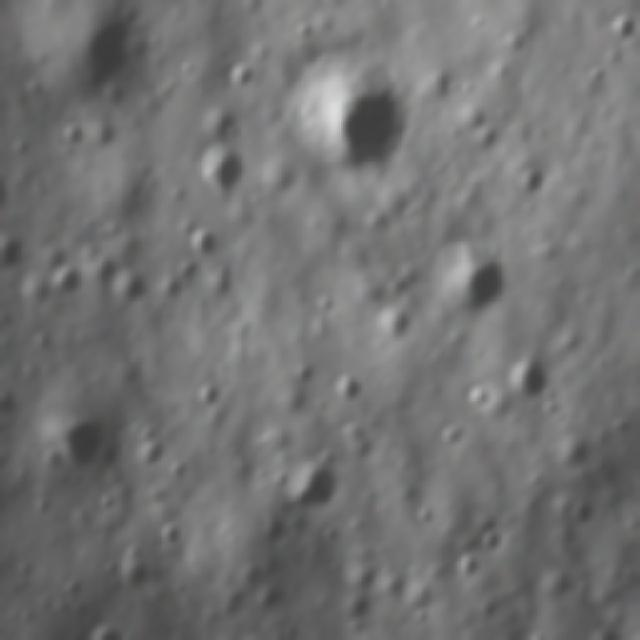crater: (282, 48, 420, 172), (55, 8, 158, 98), (438, 243, 511, 320), (50, 408, 105, 474), (286, 459, 349, 513), (191, 145, 249, 203), (501, 353, 553, 402), (374, 306, 420, 349), (336, 588, 386, 627), (112, 267, 154, 313), (552, 430, 596, 472), (203, 108, 243, 152), (187, 224, 224, 261), (51, 262, 88, 298), (135, 434, 170, 471), (255, 583, 292, 617), (2, 234, 30, 277), (608, 12, 638, 52), (91, 258, 127, 291), (450, 554, 488, 583), (466, 378, 494, 416), (334, 371, 363, 407), (120, 561, 152, 593), (568, 496, 598, 530), (473, 120, 502, 154), (437, 420, 468, 451), (258, 514, 290, 544), (310, 288, 338, 322), (514, 166, 544, 197), (193, 382, 224, 410), (159, 518, 183, 554), (60, 118, 86, 151), (62, 576, 90, 606), (230, 62, 258, 92), (96, 490, 122, 521), (479, 527, 503, 558), (292, 361, 320, 387), (268, 462, 290, 492), (103, 557, 122, 581), (124, 542, 145, 562)
